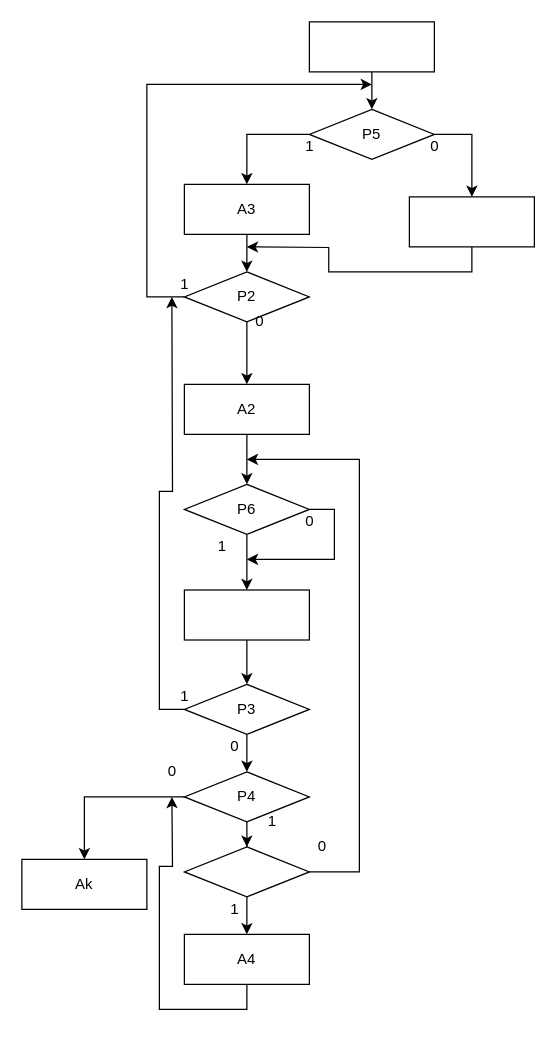
The diagram is 556 pixels wide and 1041 high, and some of its shapes have lost their labels. The centre of each missing label's shape, as x and y in pixels:
"A0" belongs at (371,46).
"A1" belongs at (246,614).
"A`" belongs at (471,221).
"P1" belongs at (246,871).
